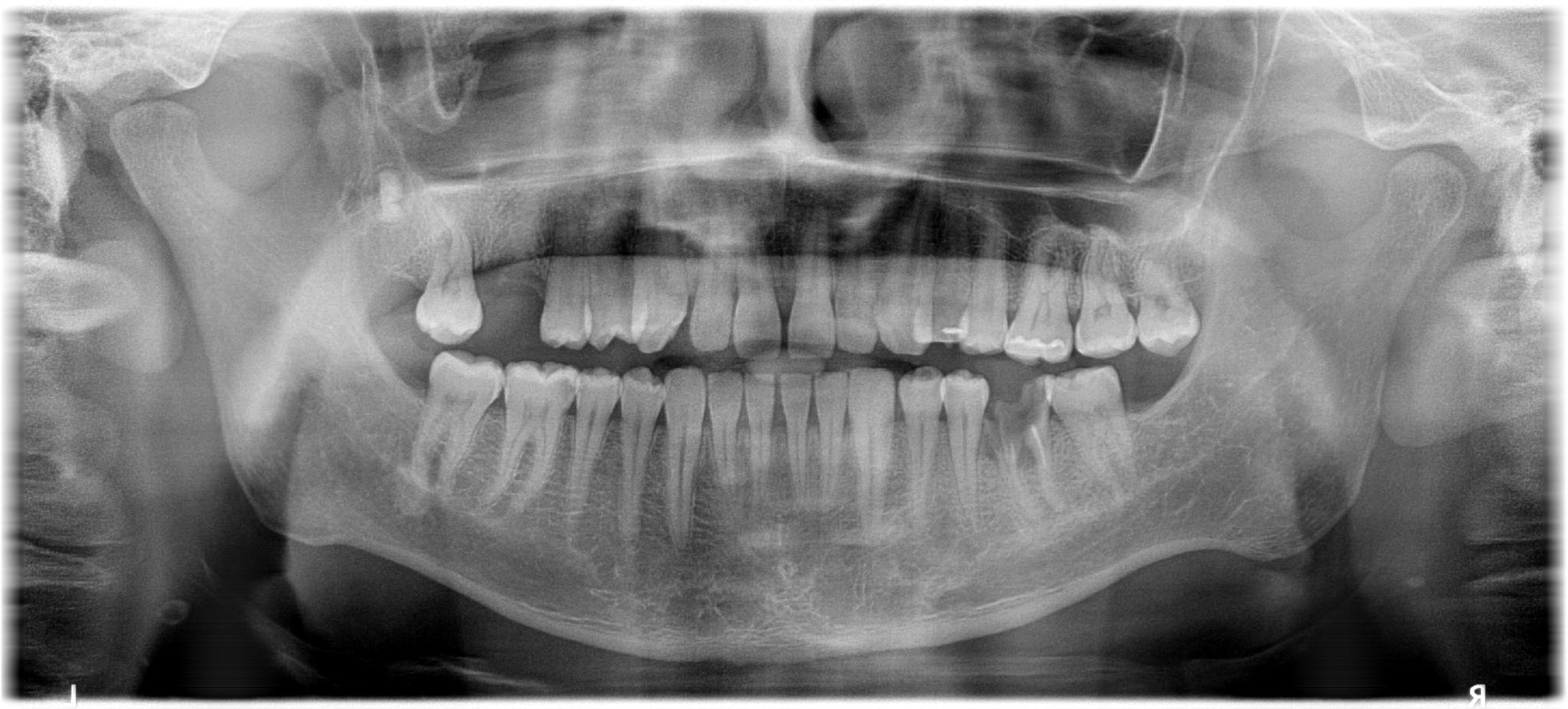Premolars: (566, 179, 1568, 551), (548, 190, 1568, 554), (480, 187, 1405, 548), (543, 189, 1568, 417), (313, 181, 912, 543), (297, 185, 861, 545)
